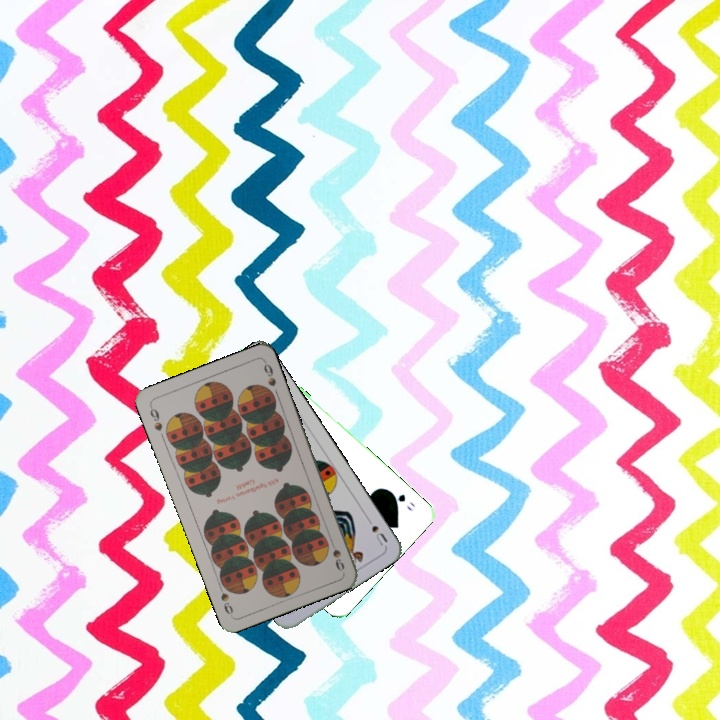GO: (385, 487, 418, 514)
S9: (326, 535, 347, 574), (146, 402, 165, 434)
SU: (361, 512, 390, 549)
